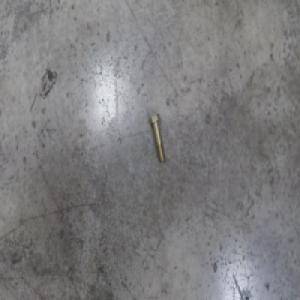Bolt: (145, 114, 162, 164)
